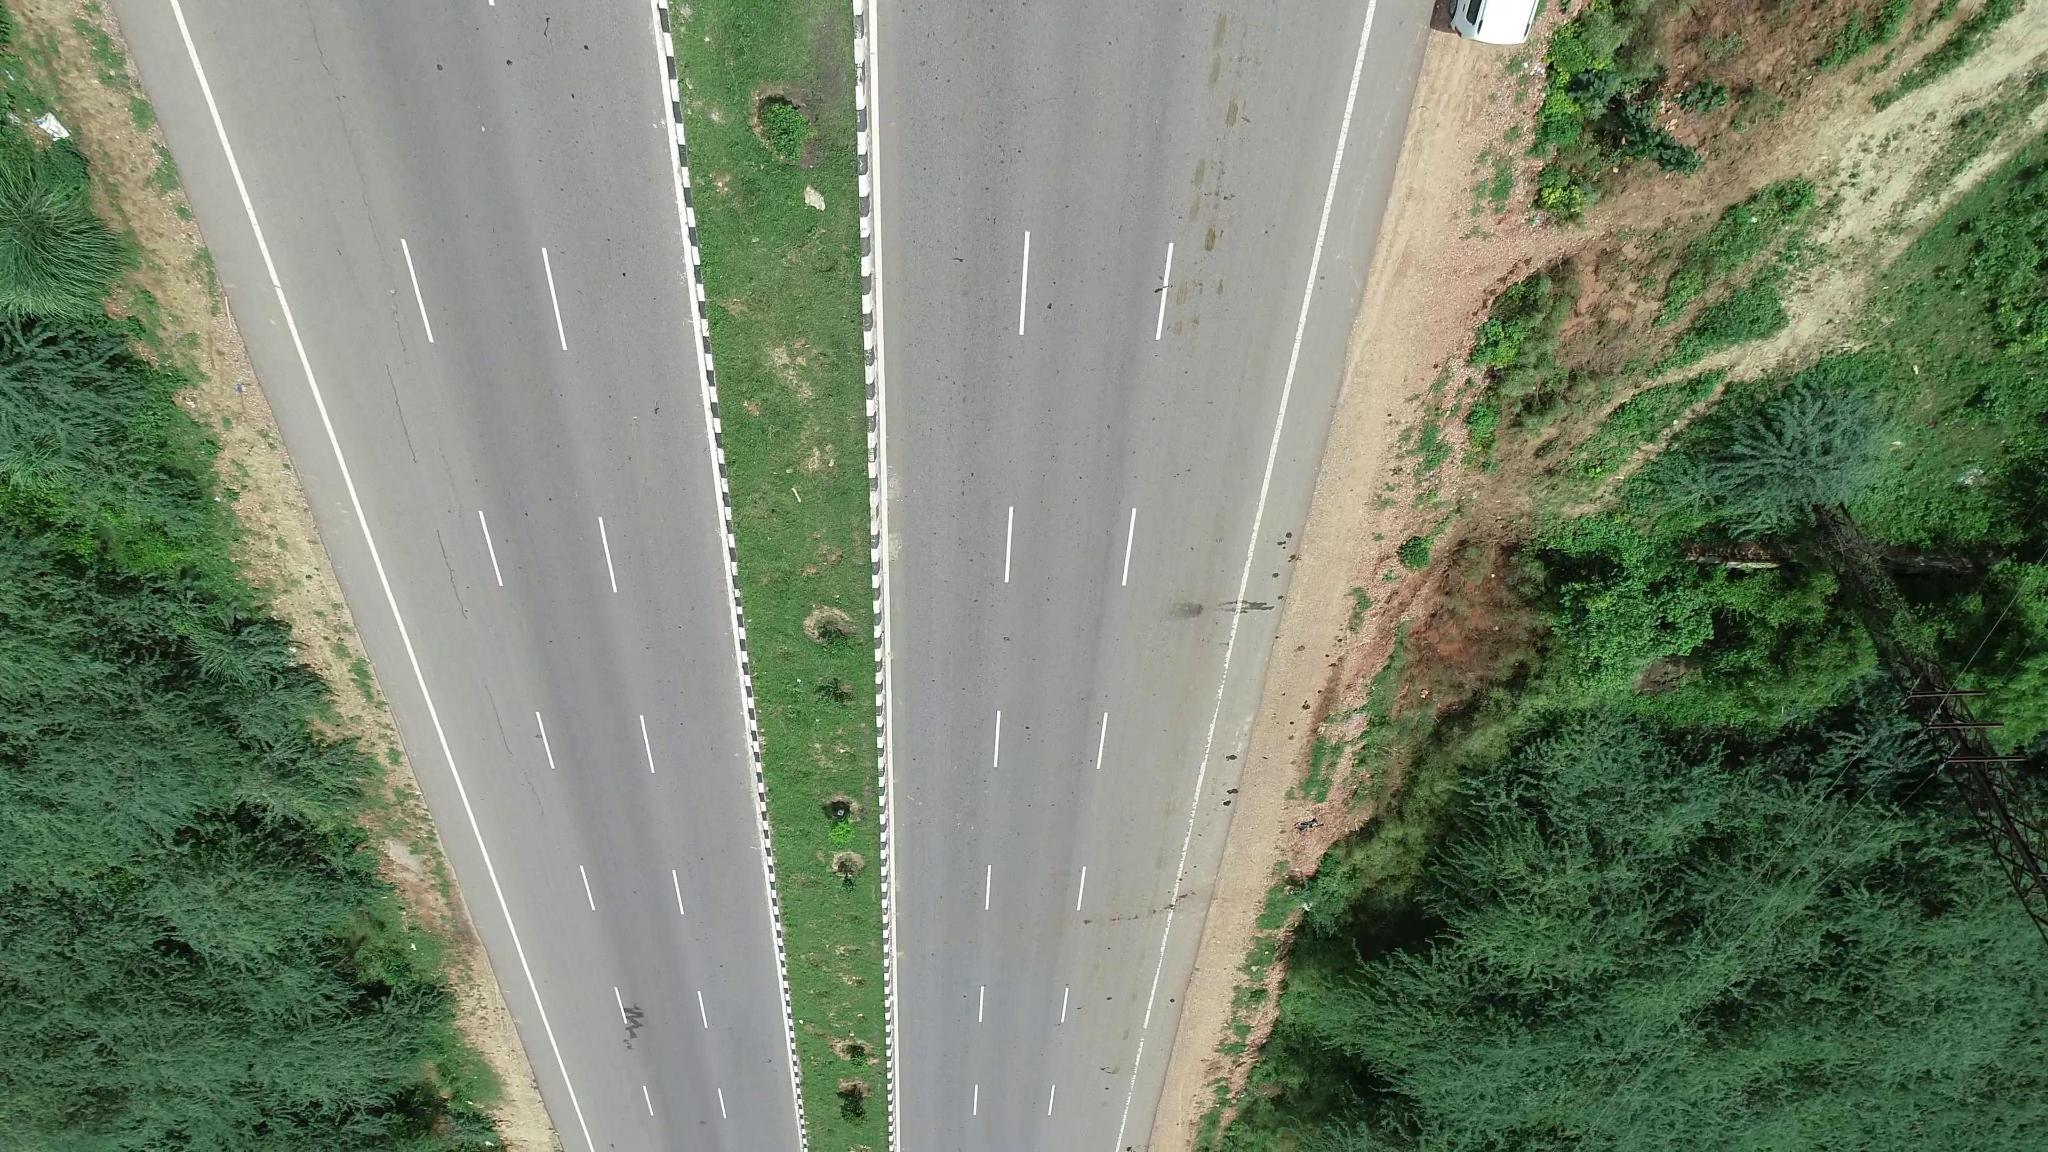Cracks: (478, 672, 550, 813), (376, 359, 430, 467), (430, 527, 474, 620)
